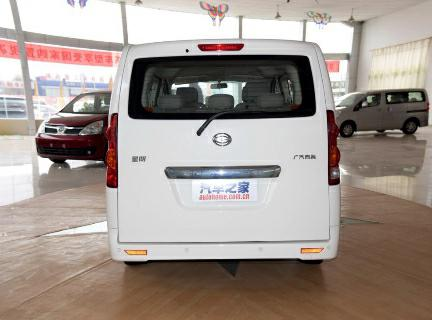广汽吉奥-星朗: (104, 34, 352, 271)
